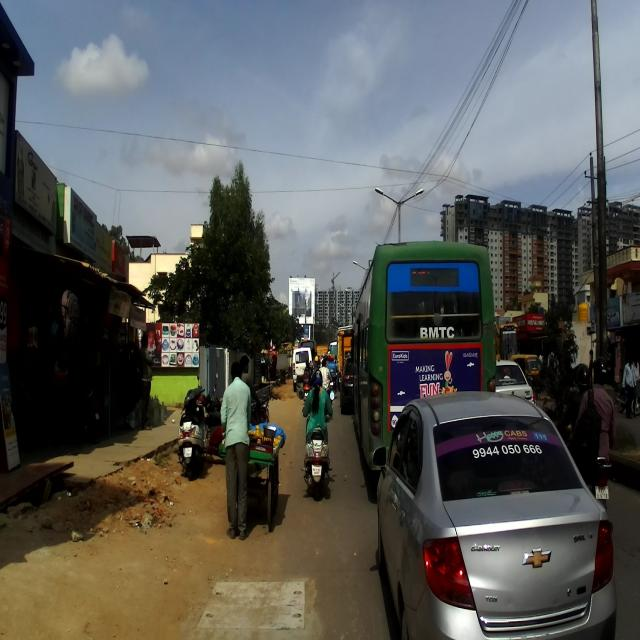Car: (369, 387, 616, 639)
bus: (351, 238, 498, 478)
scooter: (298, 388, 335, 498), (178, 386, 207, 481)
